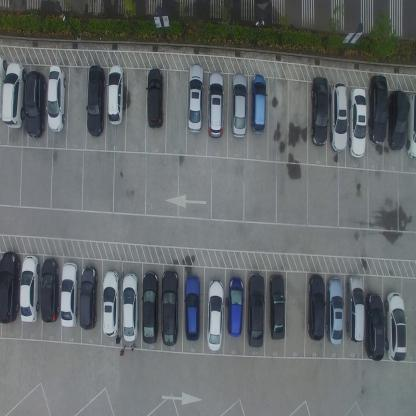car: (384, 291, 407, 362), (2, 60, 26, 128), (0, 249, 21, 325), (24, 69, 46, 140), (18, 254, 40, 323), (160, 269, 179, 346), (368, 73, 388, 145), (364, 291, 384, 361), (86, 64, 105, 137), (186, 62, 205, 133), (349, 87, 368, 158), (247, 272, 264, 349), (78, 265, 98, 330), (310, 75, 328, 147), (47, 64, 66, 132), (206, 279, 224, 350), (330, 81, 348, 152), (325, 275, 343, 346), (206, 69, 224, 139), (40, 258, 59, 324), (102, 269, 120, 338), (346, 274, 364, 342), (307, 273, 325, 341), (122, 271, 139, 343), (60, 261, 78, 328), (142, 270, 158, 344), (183, 273, 200, 341), (107, 63, 125, 127), (231, 72, 248, 138), (390, 89, 408, 151), (269, 273, 285, 342), (226, 276, 244, 336), (146, 67, 163, 129), (250, 72, 266, 135), (406, 92, 416, 160)
